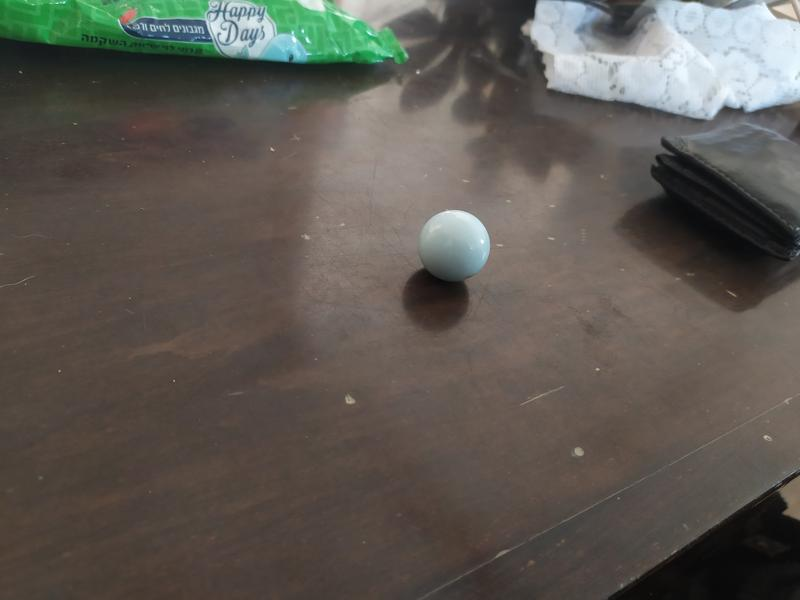Warning: (413, 207, 494, 285)
